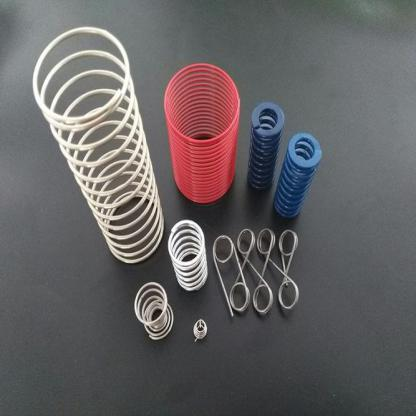FOD: (31, 23, 166, 266), (165, 60, 241, 205), (270, 131, 322, 223), (167, 217, 210, 294), (133, 281, 175, 345), (191, 317, 208, 346)
